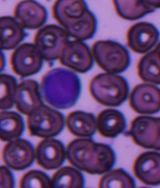L: (40, 67, 81, 109)
